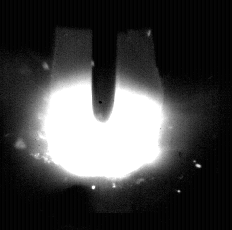arame: (92, 0, 116, 122)
poca: (44, 0, 162, 230)
